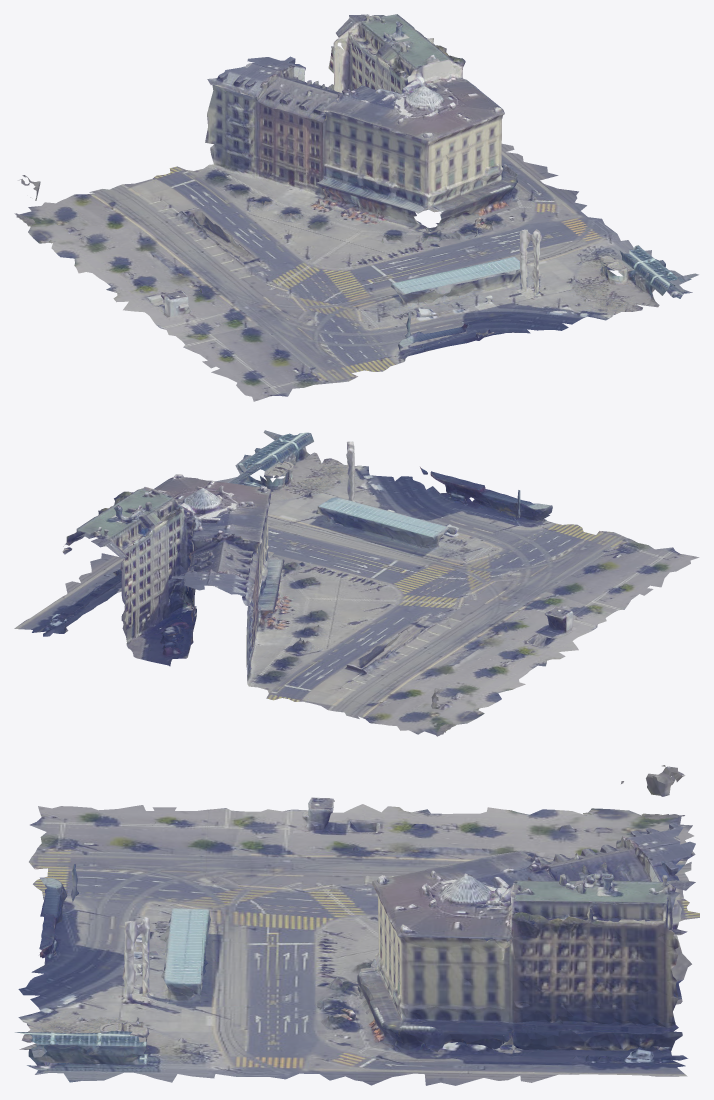
3 renders of one model, top to bottom at view 1: azimuth 30°, elevation 25°; view 2: azimuth 150°, elevation 25°; view 3: azimuth 270°, elevation 25°, orthographic. The views are drawn at different scales.
Bounding box in the file's own units: 108 × 31.84 × 109.
Materials: 1 (1 with a texture image).
